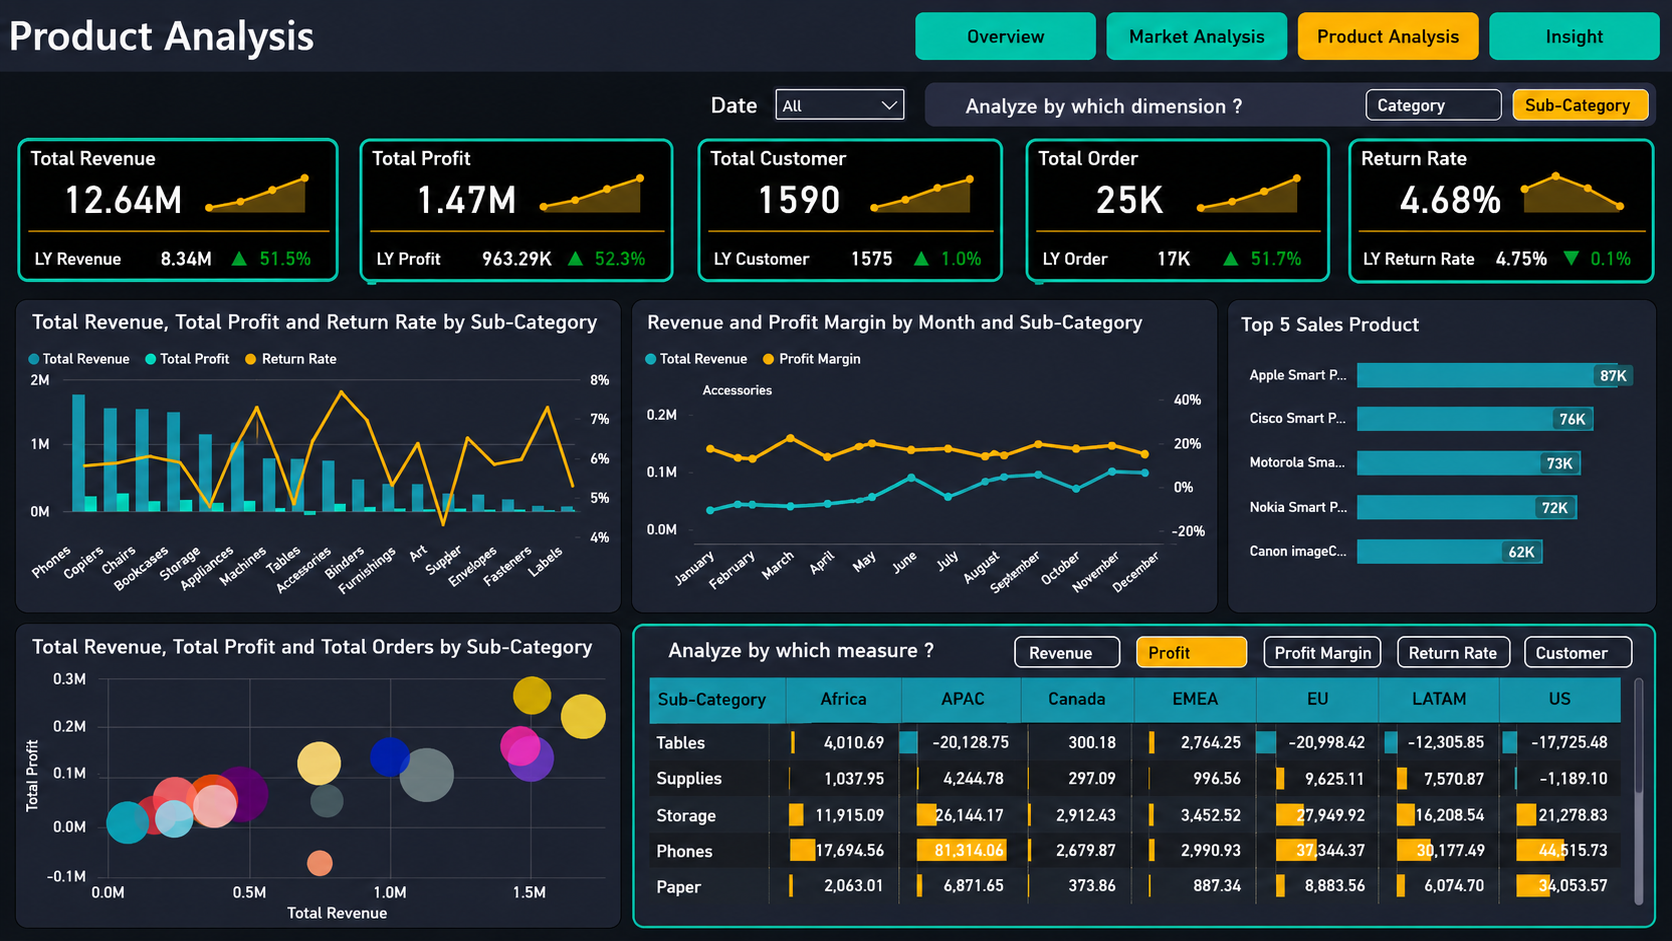

Layout of this report page (visuals, bound fields, positions):
{"tool":"powerbi","page":{"name":"Product Analysis","canvas":[1920,1080],"ordinal":2},"visuals":[{"type":"group","id":"g1","title":"Group 4","box":[1043.4,108.5,857.7,52.2],"z":0,"group":"g3"},{"type":"shape","box":[1043.4,108.5,857.7,52],"z":0,"group":"g1"},{"type":"shape","box":[809.7,109,213.5,52],"z":0,"group":"g4"},{"type":"group","id":"g2","title":"Group 1","box":[16.3,181,351.2,161.4],"z":0,"group":"g9"},{"type":"shape","box":[16.3,181,351.2,161.4],"z":0,"group":"g2"},{"type":"shape","box":[396.1,181,351.2,161.4],"z":0,"group":"g5"},{"type":"shape","box":[778.1,181,351.2,161.4],"z":0,"group":"g6"},{"type":"shape","box":[1160,181,351.2,161.4],"z":0,"group":"g7"},{"type":"shape","box":[1539.8,181,351.2,161.4],"z":0,"group":"g8"},{"type":"shape","box":[722.1,354.8,684.5,315.6],"z":0,"group":"g12"},{"type":"shape","box":[1419.1,354.8,467.5,313],"z":0,"group":"g13"},{"type":"shape","box":[16.7,359,693.1,314.9],"z":0,"group":"g11"},{"type":"shape","box":[818,689.5,1067.7,50.7],"z":0,"group":"g10"},{"type":"shape","box":[20.9,743,688.7,321.4],"z":0,"group":"g14"},{"type":"shape","box":[728.3,743,1158.3,320.6],"z":500,"group":"g15"},{"type":"group","id":"g3","title":"Filter Layer","box":[809.7,108.5,1091.5,52.2],"z":1000},{"type":"group","id":"g4","title":"Group 1","box":[809.7,108.5,212.9,52.2],"z":1000,"group":"g3"},{"type":"slicer","fields":{"Values":["Orders.Order Date.Variation.Date Hierarchy.Year","Orders.Order Date.Variation.Date Hierarchy.Quarter","Orders.Order Date.Variation.Date Hierarchy.Month"]},"box":[885.6,108.5,118,48.8],"z":1000,"group":"g4"},{"type":"textbox","box":[1083.1,114.2,511.3,42.7],"z":1000,"group":"g1"},{"type":"group","id":"g5","title":"Group 2","box":[396.1,181,351.2,161.4],"z":1000,"group":"g9"},{"type":"card","fields":{"Values":["Measure.Customer Detail String"]},"box":[998.4,302.2,119.8,29.6],"z":1000,"group":"g6"},{"type":"card","fields":{"Values":["Measure.Return Rate Detail String"]},"box":[1760.1,302.2,119.8,29.6],"z":1000,"group":"g8"},{"type":"card","fields":{"Values":["Measure.Revenue Detail String"]},"box":[220.9,303.2,120.7,29],"z":1000,"group":"g2"},{"type":"card","fields":{"Values":["Measure.Profit Detail String"]},"box":[600.7,303.2,120.7,29],"z":1000,"group":"g5"},{"type":"card","fields":{"Values":["Measure.Orders Detail String"]},"box":[1364.6,303.2,120.7,29],"z":1000,"group":"g7"},{"type":"lineChart","title":"Revenue and Profit Margin by Month and Sub-Category","fields":{"Rows":["Orders.Sub-Category"],"Category":["Orders.Order Date.Variation.Date Hierarchy.Month"],"Y":["Measure.Total Revenue"],"Y2":["Measure.Profit Margin"]},"box":[732.8,356.5,674.3,315.5],"z":1000,"group":"g12"},{"type":"barChart","title":"Top 5 Sales Product","fields":{"Category":["Orders.Product Name"],"Y":["Measure.Total Revenue"]},"box":[1423.3,359,467.5,313],"z":1000,"group":"g13"},{"type":"lineClusteredColumnComboChart","fields":{"Category":["Orders.Sub-Category"],"Y":["Measure.Total Revenue","Measure.Total Profit"],"Y2":["Measure.Return Rate"]},"box":[21.3,361.5,695,313],"z":1000,"group":"g11"},{"type":"textbox","box":[835.2,696.9,438.8,42.6],"z":1000,"group":"g10"},{"type":"scatterChart","fields":{"Category":["Orders.Sub-Category"],"X":["Measure.Total Revenue"],"Y":["Measure.Total Profit"],"Size":["Measure.Total Orders"]},"box":[34,745,680.4,319.3],"z":1000,"group":"g14"},{"type":"pivotTable","fields":{"Rows":["Orders.Sub-Category"],"Values":["Measure.Total Revenue"],"Columns":["Orders.Market"]},"box":[738,745.2,1141.6,306.8],"z":1000,"group":"g15"},{"type":"shape","box":[0,0,1920.1,85.1],"z":2000},{"type":"advancedSlicerVisual","fields":{"Values":["Parameter 2.Parameter"]},"box":[1529.4,110.4,365.2,45.9],"z":2000,"group":"g1"},{"type":"textbox","box":[834.7,117,70.8,41.3],"z":2000,"group":"g4"},{"type":"group","id":"g6","title":"Group 3","box":[778.1,181,349.8,162.2],"z":2000,"group":"g9"},{"type":"textbox","box":[788.2,302.2,151.2,38.3],"z":2000,"group":"g6"},{"type":"textbox","box":[1549.9,302.2,151.2,38.3],"z":2000,"group":"g8"},{"type":"textbox","box":[30.8,303,145.5,37.5],"z":2000,"group":"g2"},{"type":"textbox","box":[410.6,303,145.5,37.5],"z":2000,"group":"g5"},{"type":"textbox","box":[1174.5,303,145.5,37.5],"z":2000,"group":"g7"},{"type":"advancedSlicerVisual","fields":{"Values":["Parameter 3.Parameter"]},"box":[1194.6,690.8,685.3,44.6],"z":2000,"group":"g10"},{"type":"textbox","box":[0,8.3,496.7,77.2],"z":3000},{"type":"group","id":"g7","title":"Group 4","box":[1160,181,351.9,162.2],"z":3000,"group":"g9"},{"type":"card","fields":{"Values":["Measure.Total Revenue"]},"box":[30.8,218.5,201.6,56.3],"z":3000,"group":"g2"},{"type":"card","fields":{"Values":["Measure.Total Profit"]},"box":[410.6,218.5,201.6,56.3],"z":3000,"group":"g5"},{"type":"card","fields":{"Values":["Measure.Total Customer"]},"box":[792.6,218.5,201.6,56.3],"z":3000,"group":"g6"},{"type":"card","fields":{"Values":["Measure.Total Orders"]},"box":[1174.5,218.5,201.6,56.3],"z":3000,"group":"g7"},{"type":"card","fields":{"Values":["Measure.Return Rate"]},"box":[1554.3,218.5,201.6,56.3],"z":3000,"group":"g8"},{"type":"pageNavigator","box":[1020.6,16.3,881.3,54.3],"z":4000},{"type":"group","id":"g8","title":"Group 5","box":[1539.8,181,351.9,160.2],"z":4000,"group":"g9"},{"type":"textbox","box":[24.5,184.1,203.7,43.2],"z":4000,"group":"g2"},{"type":"textbox","box":[404.3,184.1,203.7,43.2],"z":4000,"group":"g5"},{"type":"textbox","box":[786.3,184.1,203.7,43.2],"z":4000,"group":"g6"},{"type":"textbox","box":[1168.2,184.1,203.7,43.2],"z":4000,"group":"g7"},{"type":"textbox","box":[1548,184.1,203.7,43.2],"z":4000,"group":"g8"},{"type":"group","id":"g9","title":"Score Card Layer","box":[16.3,181,1874.8,162.9],"z":5000},{"type":"card","fields":{"Values":["Measure.LY Order"]},"box":[1268.6,300.5,115.9,30.4],"z":5000,"group":"g7"},{"type":"card","fields":{"Values":["Measure.LY Customer"]},"box":[919.1,302.2,116.2,29.6],"z":5000,"group":"g6"},{"type":"card","fields":{"Values":["Measure.LY Return Rate"]},"box":[1680.8,302.2,116.2,29.6],"z":5000,"group":"g8"},{"type":"card","fields":{"Values":["Measure.LY Profit"]},"box":[513.9,302.6,117.1,31.1],"z":5000,"group":"g5"},{"type":"card","fields":{"Values":["Measure.Revenue PY"]},"box":[136.6,304.3,117.1,31.1],"z":5000,"group":"g2"},{"type":"shape","box":[30.8,271.1,322.1,31.9],"z":6000,"group":"g2"},{"type":"shape","box":[410.6,271.1,322.1,31.9],"z":6000,"group":"g5"},{"type":"shape","box":[792.6,271.1,322.1,31.9],"z":6000,"group":"g6"},{"type":"shape","box":[1174.5,271.1,322.1,31.9],"z":6000,"group":"g7"},{"type":"shape","box":[1554.3,271.1,322.1,31.9],"z":6000,"group":"g8"},{"type":"group","id":"g10","title":"Group 4","box":[818,689.5,1067.7,50.7],"z":6000},{"type":"lineChart","fields":{"Category":["Orders.Order Date.Variation.Date Hierarchy.Year"],"Y":["Measure.Total Revenue"]},"box":[201.3,203.5,135.1,67.6],"z":7000,"group":"g2"},{"type":"lineChart","fields":{"Category":["Orders.Order Date.Variation.Date Hierarchy.Year"],"Y":["Measure.Total Profit"]},"box":[581.1,203.5,135.1,67.6],"z":7000,"group":"g5"},{"type":"lineChart","fields":{"Category":["Orders.Order Date.Variation.Date Hierarchy.Year"],"Y":["Measure.Total Customer"]},"box":[963.1,203.5,135.1,67.6],"z":7000,"group":"g6"},{"type":"lineChart","fields":{"Category":["Orders.Order Date.Variation.Date Hierarchy.Year"],"Y":["Measure.Total Orders"]},"box":[1345,203.5,135.1,67.6],"z":7000,"group":"g7"},{"type":"lineChart","fields":{"Category":["Orders.Order Date.Variation.Date Hierarchy.Year"],"Y":["Measure.Return Rate"]},"box":[1724.8,203.5,135.1,67.6],"z":7000,"group":"g8"},{"type":"group","id":"g11","title":"Group 6","box":[16.7,359,699.1,315.1],"z":7000},{"type":"group","id":"g12","title":"Group 7","box":[722.1,354.8,685,317.2],"z":8000},{"type":"group","id":"g13","title":"Group 8","box":[1419.1,354.8,471.7,317.2],"z":9000},{"type":"group","id":"g14","title":"Group 9","box":[20.9,743,688.7,321.4],"z":10000},{"type":"group","id":"g15","title":"Group 10","box":[728.3,743,1158.3,320.6],"z":11000}]}

Visuals, with their boxes in screenshot pixels (x1, y1, x2, y2), scaled from the page's 1920x1080 canvas onto the 1672x941 screenshot:
"Group 4" group: bbox=(909, 95, 1656, 140)
shape: bbox=(909, 95, 1656, 140)
shape: bbox=(705, 95, 891, 140)
"Group 1" group: bbox=(14, 158, 320, 298)
shape: bbox=(14, 158, 320, 298)
shape: bbox=(345, 158, 651, 298)
shape: bbox=(678, 158, 983, 298)
shape: bbox=(1010, 158, 1316, 298)
shape: bbox=(1341, 158, 1647, 298)
shape: bbox=(629, 309, 1225, 584)
shape: bbox=(1236, 309, 1643, 582)
shape: bbox=(15, 313, 618, 587)
shape: bbox=(712, 601, 1642, 645)
shape: bbox=(18, 647, 618, 927)
shape: bbox=(634, 647, 1643, 927)
"Filter Layer" group: bbox=(705, 95, 1656, 140)
"Group 1" group: bbox=(705, 95, 891, 140)
slicer - Orders.Order Date.Variation.Date Hierarchy.Year x Orders.Order Date.Variation.Date Hierarchy.Quarter: bbox=(771, 95, 874, 137)
textbox: bbox=(943, 100, 1388, 137)
"Group 2" group: bbox=(345, 158, 651, 298)
card - Measure.Customer Detail String: bbox=(869, 263, 974, 289)
card - Measure.Return Rate Detail String: bbox=(1533, 263, 1637, 289)
card - Measure.Revenue Detail String: bbox=(192, 264, 297, 289)
card - Measure.Profit Detail String: bbox=(523, 264, 628, 289)
card - Measure.Orders Detail String: bbox=(1188, 264, 1293, 289)
"Revenue and Profit Margin by Month and Sub-Category" lineChart: bbox=(638, 311, 1225, 586)
"Top 5 Sales Product" barChart: bbox=(1239, 313, 1647, 586)
lineClusteredColumnComboChart - Orders.Sub-Category x Measure.Total Revenue: bbox=(19, 315, 624, 588)
textbox: bbox=(727, 607, 1109, 644)
scatterChart - Orders.Sub-Category x Measure.Total Revenue: bbox=(30, 649, 622, 927)
pivotTable - Orders.Sub-Category x Measure.Total Revenue: bbox=(643, 649, 1637, 917)
shape: bbox=(0, 0, 1671, 74)
advancedSlicerVisual - Parameter 2.Parameter: bbox=(1332, 96, 1650, 136)
textbox: bbox=(727, 102, 789, 138)
"Group 3" group: bbox=(678, 158, 982, 299)
textbox: bbox=(686, 263, 818, 297)
textbox: bbox=(1350, 263, 1481, 297)
textbox: bbox=(27, 264, 154, 297)
textbox: bbox=(358, 264, 484, 297)
textbox: bbox=(1023, 264, 1150, 297)
advancedSlicerVisual - Parameter 3.Parameter: bbox=(1040, 602, 1637, 641)
textbox: bbox=(0, 7, 433, 74)
"Group 4" group: bbox=(1010, 158, 1317, 299)
card - Measure.Total Revenue: bbox=(27, 190, 202, 239)
card - Measure.Total Profit: bbox=(358, 190, 533, 239)
card - Measure.Total Customer: bbox=(690, 190, 866, 239)
card - Measure.Total Orders: bbox=(1023, 190, 1198, 239)
card - Measure.Return Rate: bbox=(1354, 190, 1529, 239)
pageNavigator: bbox=(889, 14, 1656, 62)
"Group 5" group: bbox=(1341, 158, 1647, 297)
textbox: bbox=(21, 160, 199, 198)
textbox: bbox=(352, 160, 529, 198)
textbox: bbox=(685, 160, 862, 198)
textbox: bbox=(1017, 160, 1195, 198)
textbox: bbox=(1348, 160, 1525, 198)
"Score Card Layer" group: bbox=(14, 158, 1647, 300)
card - Measure.LY Order: bbox=(1105, 262, 1206, 288)
card - Measure.LY Customer: bbox=(800, 263, 902, 289)
card - Measure.LY Return Rate: bbox=(1464, 263, 1565, 289)
card - Measure.LY Profit: bbox=(448, 264, 549, 291)
card - Measure.Revenue PY: bbox=(119, 265, 221, 292)
shape: bbox=(27, 236, 307, 264)
shape: bbox=(358, 236, 638, 264)
shape: bbox=(690, 236, 971, 264)
shape: bbox=(1023, 236, 1303, 264)
shape: bbox=(1354, 236, 1634, 264)
"Group 4" group: bbox=(712, 601, 1642, 645)
lineChart - Orders.Order Date.Variation.Date Hierarchy.Year x Measure.Total Revenue: bbox=(175, 177, 293, 236)
lineChart - Orders.Order Date.Variation.Date Hierarchy.Year x Measure.Total Profit: bbox=(506, 177, 624, 236)
lineChart - Orders.Order Date.Variation.Date Hierarchy.Year x Measure.Total Customer: bbox=(839, 177, 956, 236)
lineChart - Orders.Order Date.Variation.Date Hierarchy.Year x Measure.Total Orders: bbox=(1171, 177, 1289, 236)
lineChart - Orders.Order Date.Variation.Date Hierarchy.Year x Measure.Return Rate: bbox=(1502, 177, 1620, 236)
"Group 6" group: bbox=(15, 313, 623, 587)
"Group 7" group: bbox=(629, 309, 1225, 586)
"Group 8" group: bbox=(1236, 309, 1647, 586)
"Group 9" group: bbox=(18, 647, 618, 927)
"Group 10" group: bbox=(634, 647, 1643, 927)
